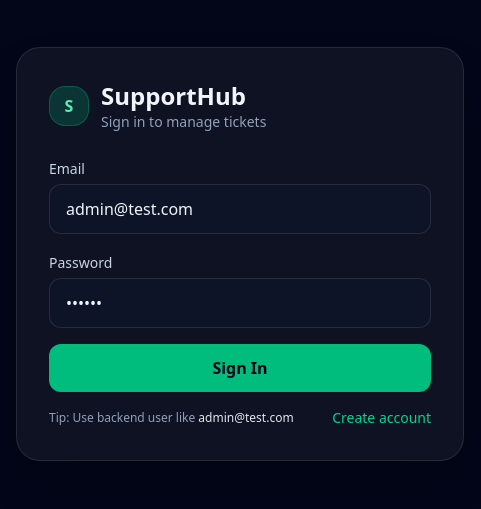
Login › shows 'Login failed' when backend message is missing
Click the button "Sign In" at (240, 368), box top-left (49, 344), bottom-right (431, 392)
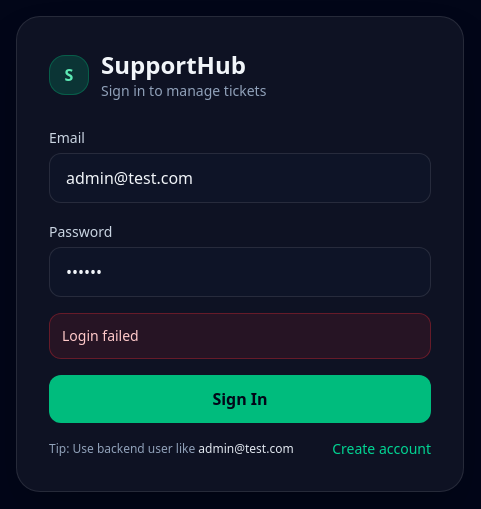
Now the text "Login failed" is shown, box top-left (49, 313), bottom-right (431, 359)
